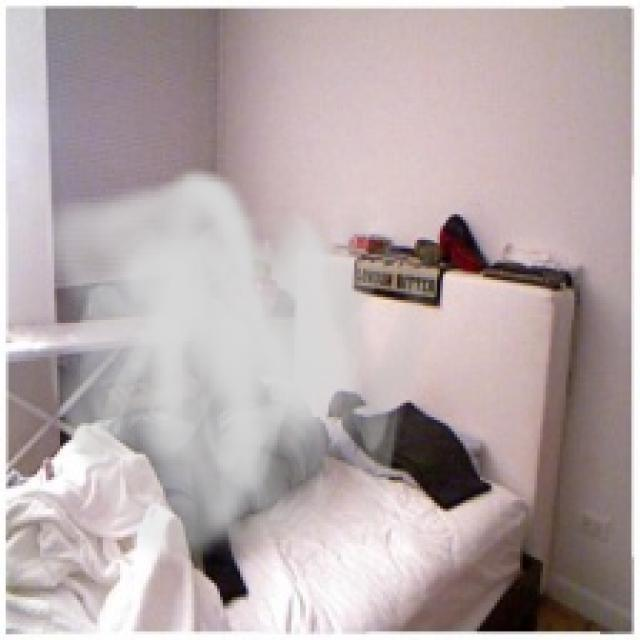Smoke: (31, 165, 443, 578)
